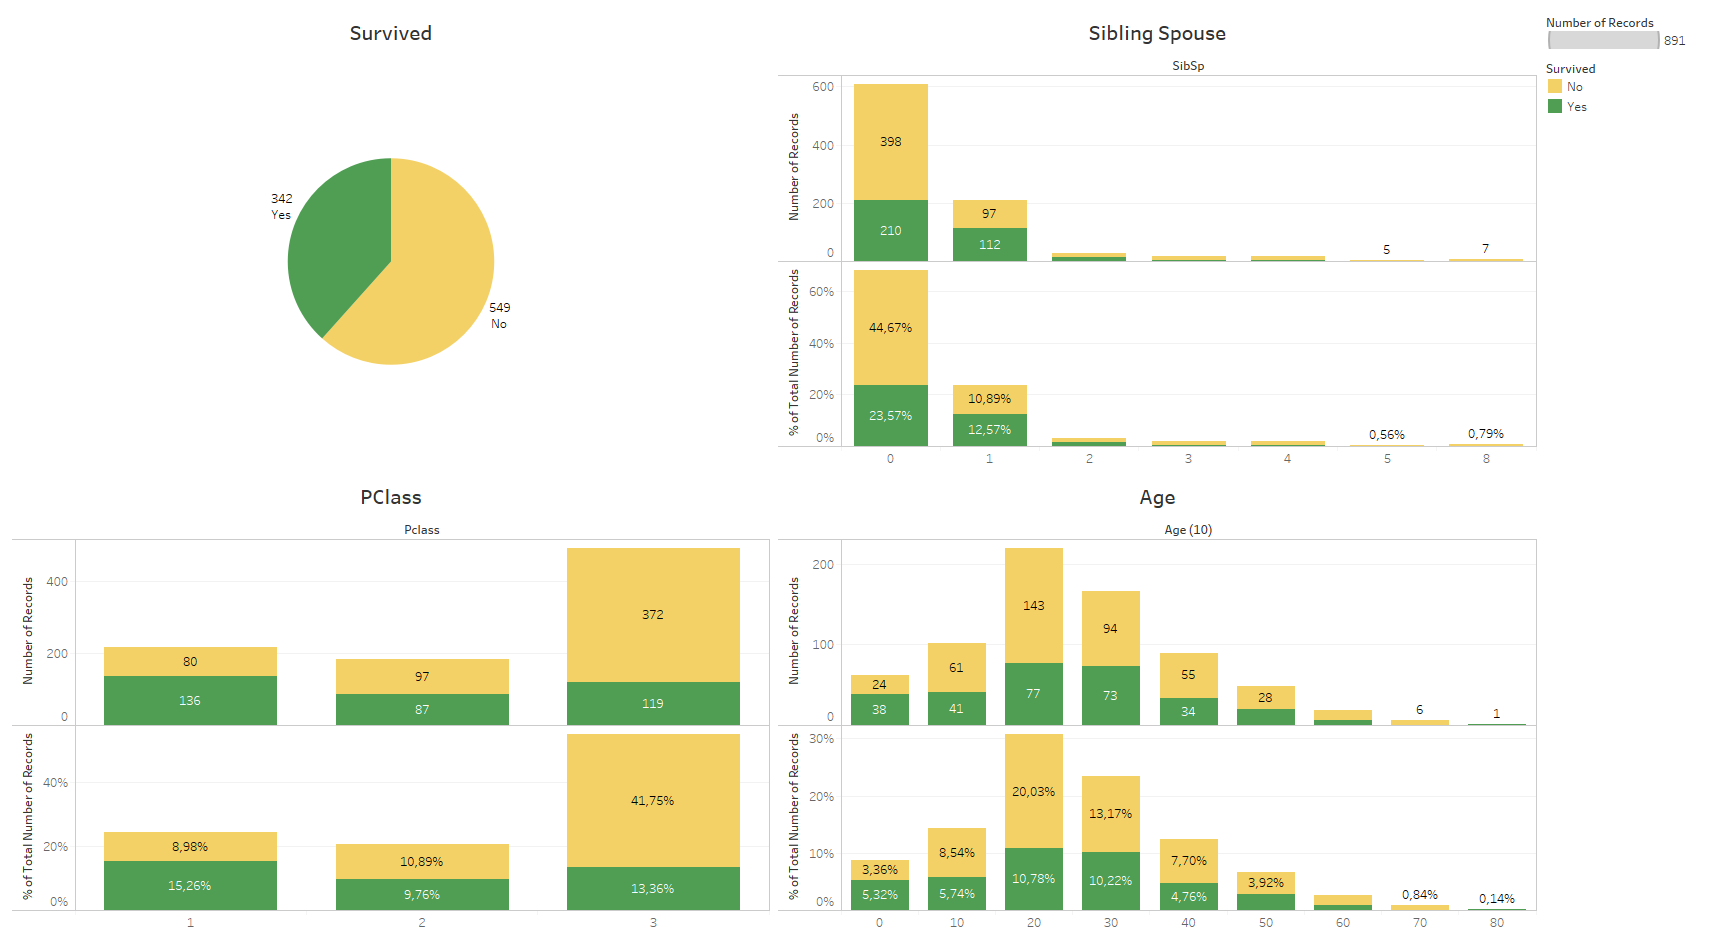

Layout of this report page (visuals, bound fields, positions):
{"tool":"tableau","page":{"name":"Report","canvas":[1000,1000],"units":"permille","ordinal":0},"visuals":[{"type":"worksheet","title":"Survived","mark":"Pie","box":[4.7,8.5,448.5,491.5]},{"type":"worksheet","title":"Sibling Spouse","mark":"Automatic","rows":["Number of Records","Number of Records"],"cols":["SibSp"],"box":[453.2,8.5,448.6,491.5]},{"type":"legend","title":"Survived","param":"[federated.1k5ihd51cbc3k113dtytt191uhcs].[sum:Number of Records:qk]","box":[901.7,8.5,93.6,48.7]},{"type":"legend","title":"Survived","param":"[federated.1k5ihd51cbc3k113dtytt191uhcs].[none:Survived:ok]","box":[901.7,57.2,93.6,69.9]},{"type":"worksheet","title":"PClass","mark":"Automatic","rows":["Number of Records","Number of Records"],"cols":["Pclass"],"box":[4.7,500,448.5,491.6]},{"type":"worksheet","title":"Age","mark":"Automatic","rows":["Number of Records","Number of Records"],"cols":["Age (bin)"],"box":[453.2,500,448.6,491.6]}]}

Visuals, with their boxes on the dashboard's canvas, which has no fixed pixel size, in thousandths of its width and height (x1, y1, x2, y2). These are canvas units, not pixel positions in the 1709x944 screenshot, which may show the page scaled, cropped or inside an application window:
"Survived" worksheet (Pie marks): region(5, 8, 453, 500)
"Sibling Spouse" worksheet: region(453, 8, 902, 500)
"Survived" legend: region(902, 8, 995, 57)
"Survived" legend: region(902, 57, 995, 127)
"PClass" worksheet: region(5, 500, 453, 992)
"Age" worksheet: region(453, 500, 902, 992)
